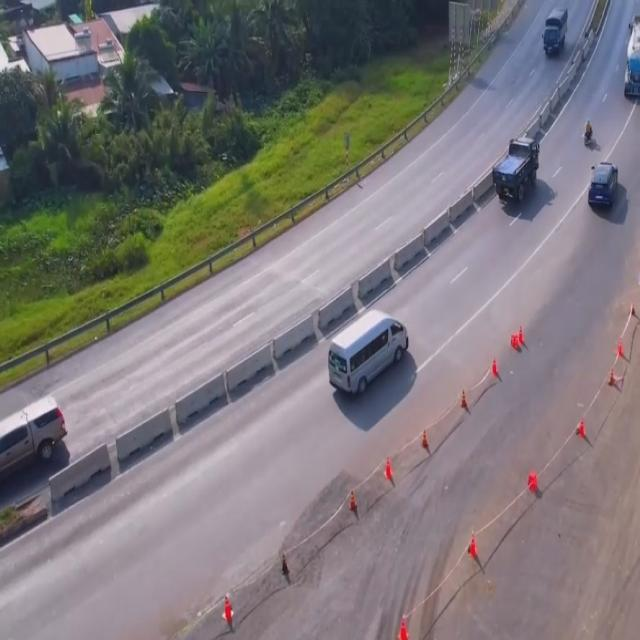car: (326, 312, 414, 404), (0, 390, 68, 481), (586, 161, 622, 214)
motorbike: (582, 116, 596, 152)
truck: (492, 130, 541, 210), (544, 4, 569, 62)
